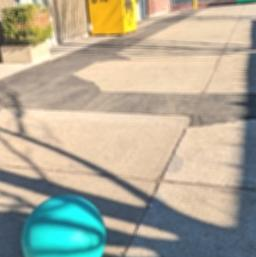algae: (22, 191, 104, 257), (25, 195, 26, 196)
